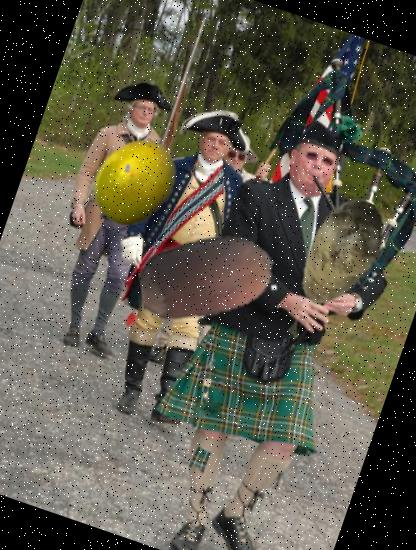Ginger: (269, 180, 416, 327)
Hazelnut: (121, 190, 294, 363)
Maracuja: (75, 123, 194, 242)
